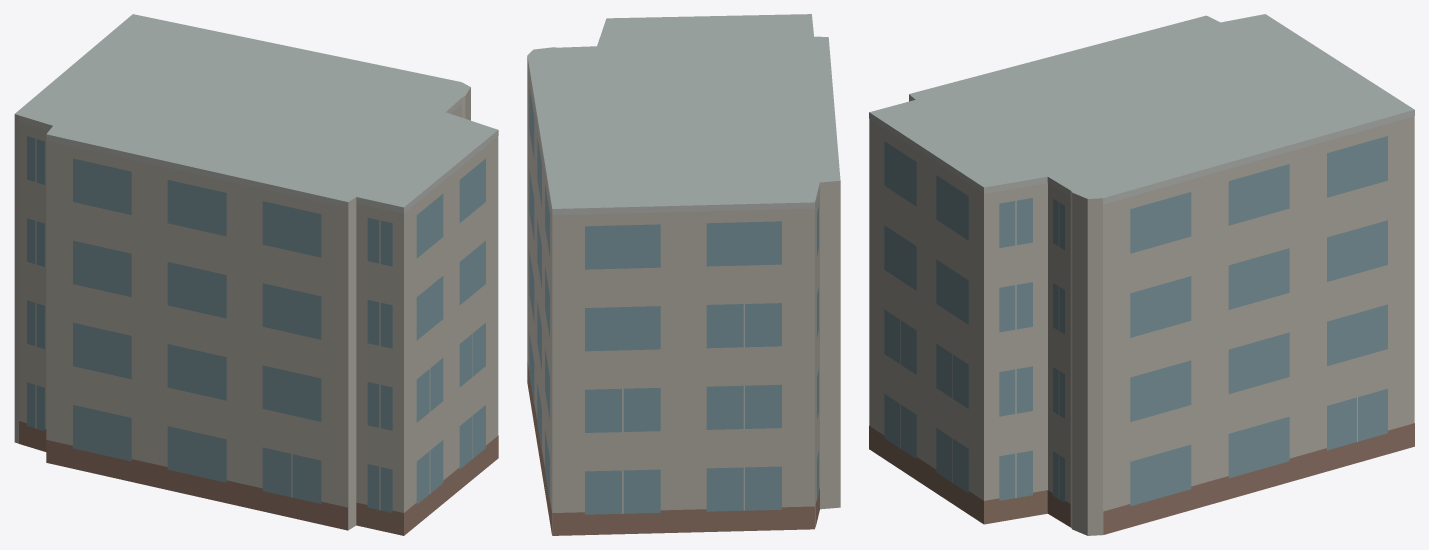
Rendered from survey-upis-32947522.glb.
The picture shows the model from 3 angles, left to right: view 1: azimuth 30°, elevation 25°; view 2: azimuth 150°, elevation 25°; view 3: azimuth 270°, elevation 25°; orthographic projection. The views are drawn at different scales.
Parts seen in each view (by area): view 1: survey-upis-32947522.tmp; view 2: survey-upis-32947522.tmp; view 3: survey-upis-32947522.tmp.
Boxes of the visible parts, x1,y1,x2,y2 form: survey-upis-32947522.tmp: (14,14,498,535); survey-upis-32947522.tmp: (527,14,840,535); survey-upis-32947522.tmp: (869,14,1414,535).
Size of the model in its own units: 15.2 by 12.9 by 18.94.
